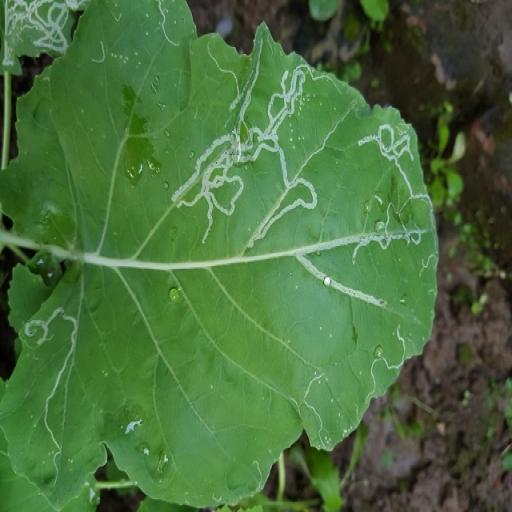Leaf Miner: (0, 0, 438, 512)
